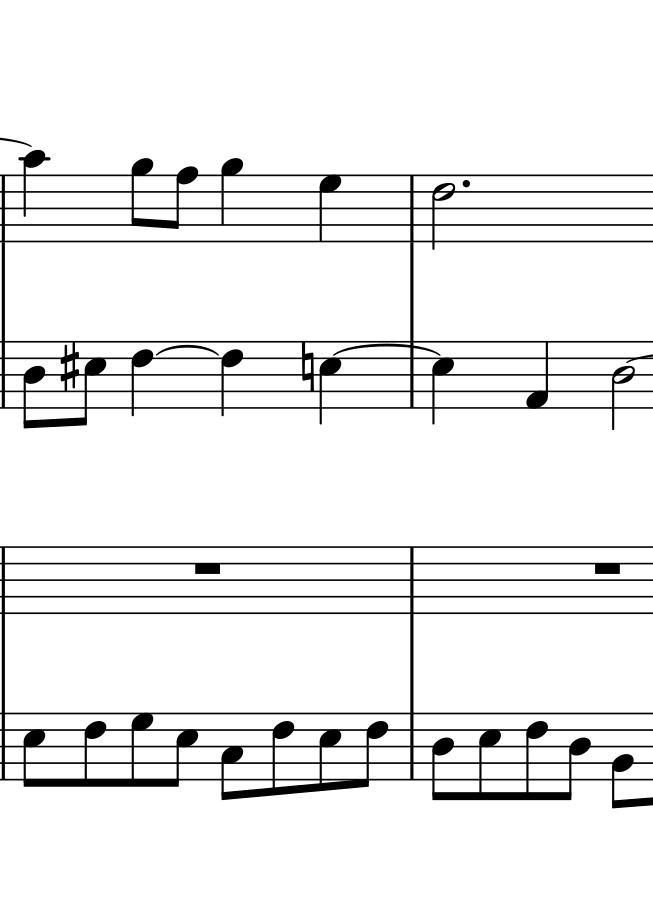2_4: (610, 340, 637, 433)
2_6: (430, 172, 457, 252)
4_1: (525, 341, 551, 409)
4_10: (21, 149, 47, 246)
4_6: (429, 340, 456, 426), (130, 337, 157, 420), (220, 338, 243, 420)
4_7: (317, 173, 344, 245)
4_9: (219, 156, 243, 244)
8_2: (609, 711, 634, 810)
8_3: (218, 710, 244, 802)
8_4: (563, 711, 590, 804), (429, 711, 455, 804), (21, 340, 47, 431)
8_5: (475, 711, 502, 802), (77, 340, 105, 427), (169, 711, 199, 789), (316, 711, 344, 793), (22, 710, 45, 791)
8_6: (523, 711, 548, 803), (360, 711, 389, 790), (270, 712, 293, 798), (83, 711, 107, 790)
8_7: (127, 712, 154, 790)
8_8: (170, 166, 199, 244)
8_9: (130, 157, 153, 245)
Natural: (299, 340, 316, 392)
Rests1: (192, 558, 220, 578)
Rests2: (591, 557, 623, 579)
Rests4: (317, 340, 344, 427)
Sharp: (60, 341, 80, 390)
Single_barline: (401, 545, 425, 614), (401, 341, 424, 408), (403, 174, 423, 243), (402, 713, 421, 780), (1, 546, 17, 613), (1, 176, 14, 242), (1, 341, 12, 409), (1, 712, 11, 780)
Slur: (331, 345, 438, 356), (156, 344, 219, 357)
dot: (458, 175, 476, 194)
